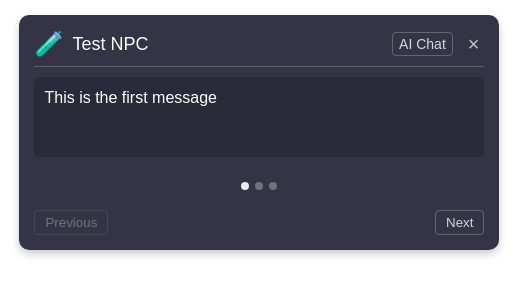
Test: ConversationModal › should send message and display AI response
Switch to AI mode
Step 1. Click the button "AI Chat" → [422, 44], box [392,32,453,56]
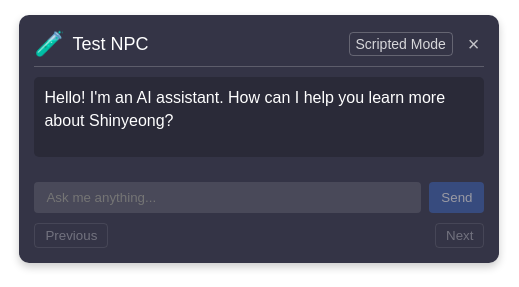
Type a message
Step 2. Type "What is your purpose?" into the field with placeholder "Ask me anything..." → [228, 198], box [34,182,421,213]
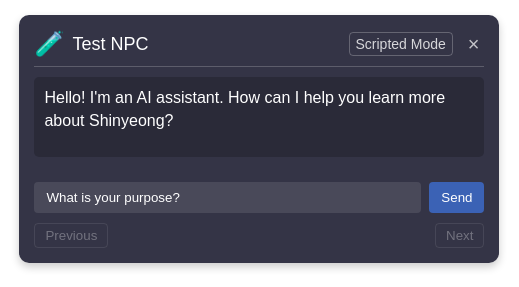
Send the message
Step 3. Click the button "Send" → [457, 198], box [429,182,484,213]
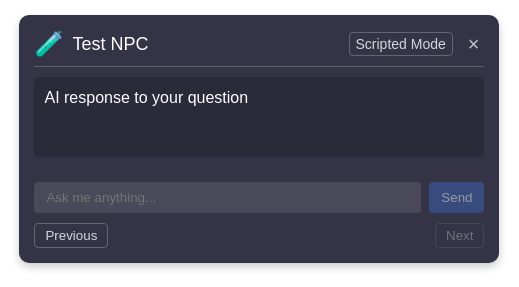
Expected: the text "AI response to your question" is shown, [34,77,484,157]
Expected: the field with placeholder "Ask me anything..." is empty, [34,182,421,213]
